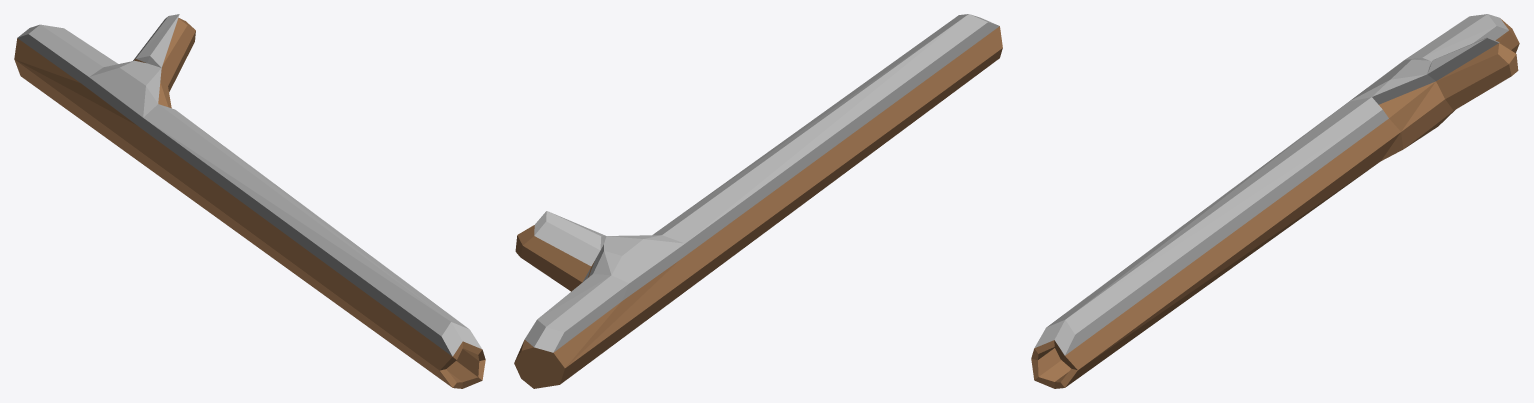
The model's file is Branch_1 Winter.fbx.
The picture shows the model from 3 angles, left to right: view 1: azimuth 30°, elevation 25°; view 2: azimuth 150°, elevation 25°; view 3: azimuth 330°, elevation 25°; orthographic projection. The views are drawn at different scales.
Parts seen in each view (by area): view 1: BranchWinter_mesh; view 2: BranchWinter_mesh; view 3: BranchWinter_mesh.
Part boxes in pixels (x1,y1,x2,y2): BranchWinter_mesh: (14, 14, 485, 388); BranchWinter_mesh: (514, 14, 1002, 388); BranchWinter_mesh: (1031, 14, 1519, 388).
Size of the model in its own units: 22.06 by 19.1 by 150.
